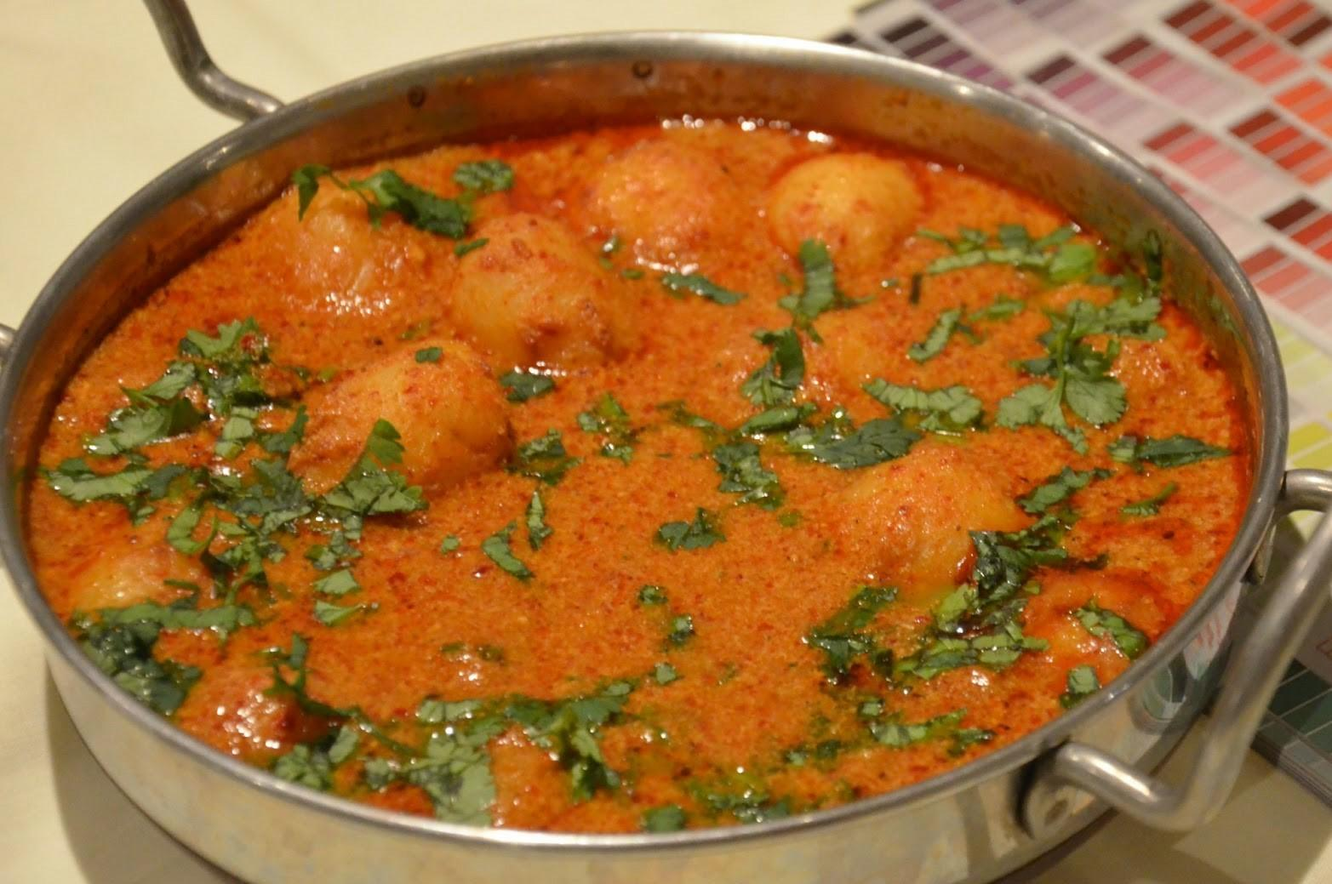DumAloo: (26, 108, 1253, 834)
